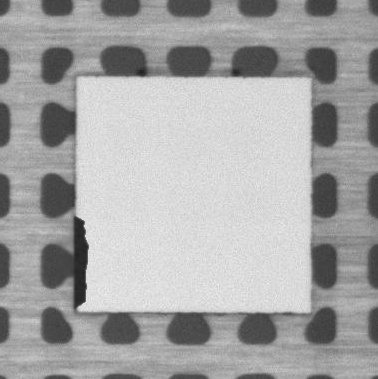DIE_BROKEN: (71, 212, 91, 316)
